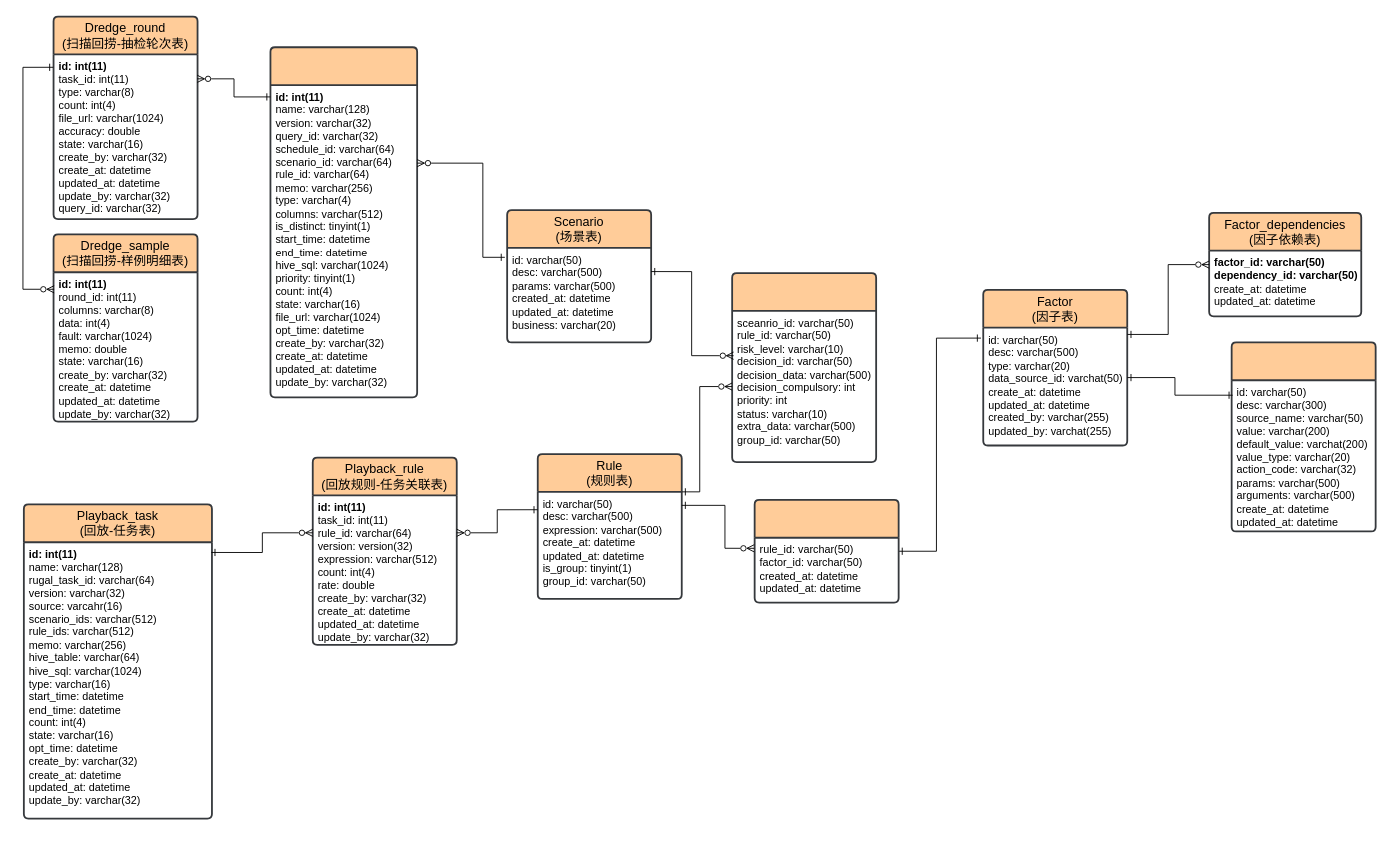
Some shapes in this 1392 by 842 pixel diagram are drawn without their labels. The shapes that lost their labels are listed below. From the top down, each one's box as (x1, y1, x2, y2) in pixels, then its label:
(269, 46, 418, 398): Dredge_task (扫描回捞-任务表)
(731, 272, 877, 463): Strategy (策略表)
(1230, 341, 1376, 532): Data_source (数据源表)
(753, 499, 899, 603): Rule_Factors (规则-因子关联表)
